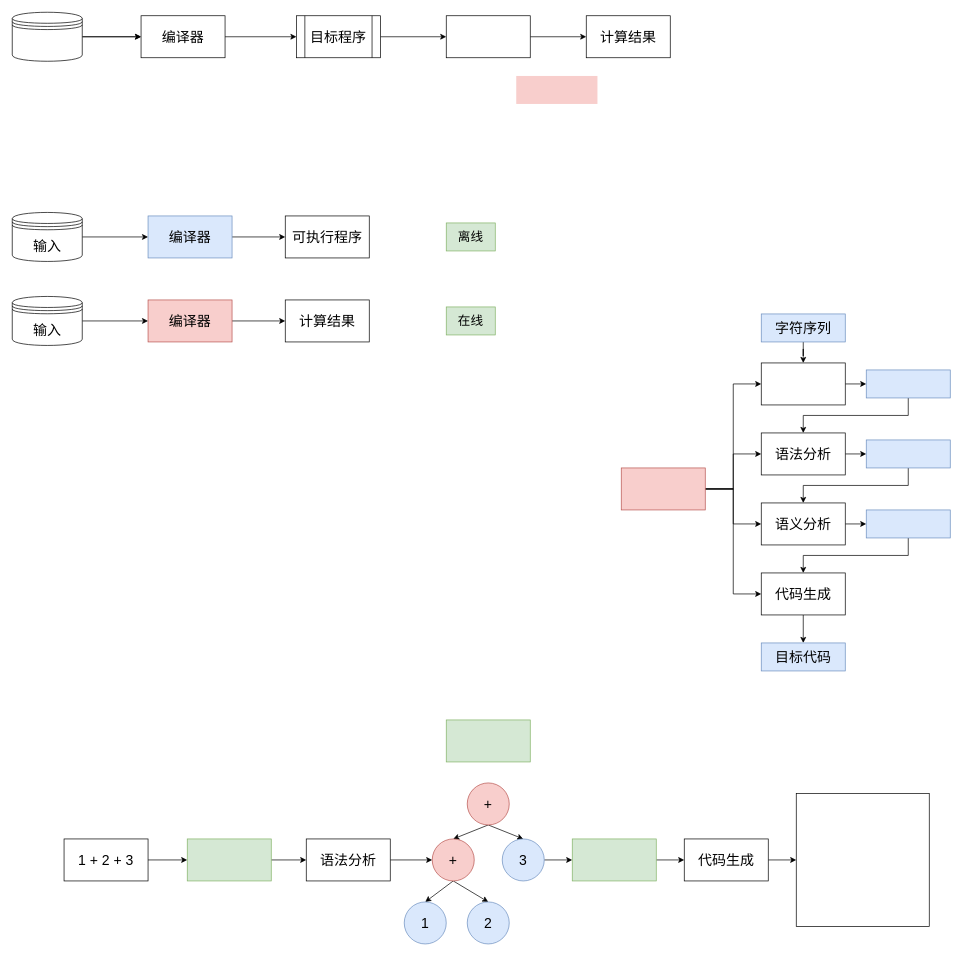
Image size: 963x956. Some labels were removed from this diagram. Here are the shapes that lost their labels. From the top down, the centre of each, then its label:
At pixel 47 36: "源代码".
At pixel 488 36: "计算机".
At pixel 556 90: "动态计算".
At pixel 803 383: "词法分析".
At pixel 908 383: "记号序列".
At pixel 908 453: "抽象语法树".
At pixel 663 488: "符号表".
At pixel 908 523: "中间代码".
At pixel 488 740: "语法树".
At pixel 229 859: "前端".
At pixel 614 859: "后端".
At pixel 862 859: "push 1 push 2 add push 3 add".
